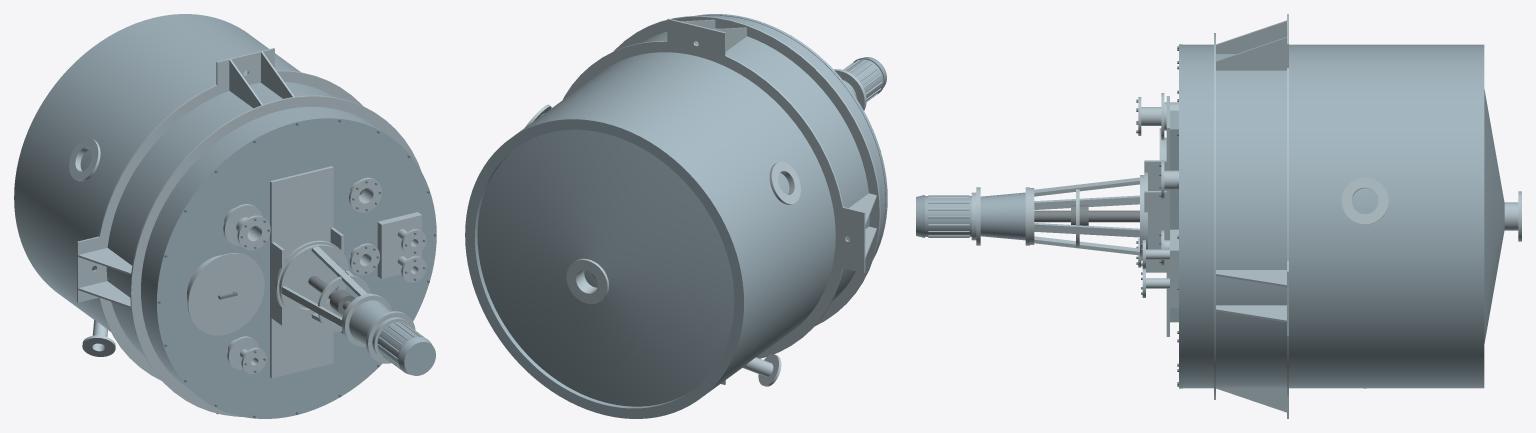
The picture shows the model from 3 angles, left to right: view 1: azimuth 30°, elevation 25°; view 2: azimuth 150°, elevation 25°; view 3: azimuth 270°, elevation 25°; orthographic projection. The views are drawn at different scales.
Parts seen in each view (by area): view 1: 保温_外包60mm, 槽盖_外盖及接口开口, 搅拌_k_安装盖, 托耳_上刚性环OD2072, 接口_h_取样盖, 托耳_下刚性环OD2072, 搅拌_机架下法兰, 搅拌_机架下环, 接口_cd_共座, 驱动_电机顶帽, 托耳_R2_承托底板, 托耳_R3_承托底板 (+22 smaller); view 2: 保温_外包60mm, 保温_锥底包络, 托耳_下刚性环OD2072, 托耳_上刚性环OD2072, 本体_钢壳OD1816, 托耳_R2_承托底板, 托耳_R3_承托底板, 接口_j_底排法兰, 槽盖_外盖及接口开口, 接口_m2_法兰, 驱动_Y112M电机, 驱动_减速机上法兰 (+1 smaller); view 3: 保温_外包60mm, 保温_锥底包络, 驱动_BLD4机壳, 搅拌_k_高座侧板, 驱动_Y112M电机, 托耳_R2_筋板-1, 槽盖_外盖及接口开口, 接口_m3_法兰, 搅拌_外露传动轴, 托耳_R2_筋板1, 搅拌_k_安装口颈, 搅拌_DJ55A开窗架腿1 (+9 smaller).
Boxes of the visible parts, x1,y1,x2,y2 form: 保温_外包60mm: (14, 14, 380, 390); 槽盖_外盖及接口开口: (155, 117, 436, 418); 搅拌_k_安装盖: (270, 166, 333, 378); 托耳_上刚性环OD2072: (130, 95, 420, 416); 接口_h_取样盖: (187, 253, 264, 335); 托耳_下刚性环OD2072: (96, 70, 362, 380); 搅拌_机架下法兰: (275, 240, 348, 319); 搅拌_机架下环: (279, 244, 348, 318); 接口_cd_共座: (377, 212, 421, 278); 驱动_电机顶帽: (398, 337, 435, 375); 托耳_R2_承托底板: (216, 48, 274, 95); 托耳_R3_承托底板: (77, 235, 109, 302); 保温_外包60mm: (465, 15, 885, 418); 保温_锥底包络: (477, 129, 734, 406); 托耳_下刚性环OD2072: (563, 41, 846, 358); 托耳_上刚性环OD2072: (614, 16, 880, 326); 本体_钢壳OD1816: (473, 128, 735, 409); 托耳_R2_承托底板: (667, 18, 725, 61); 托耳_R3_承托底板: (833, 207, 865, 272); 接口_j_底排法兰: (566, 258, 608, 303); 槽盖_外盖及接口开口: (695, 14, 887, 259); 接口_m2_法兰: (769, 161, 800, 204); 驱动_Y112M电机: (845, 59, 883, 100); 驱动_减速机上法兰: (834, 69, 866, 110); 保温_外包60mm: (1182, 44, 1484, 388); 保温_锥底包络: (1484, 89, 1504, 343); 驱动_BLD4机壳: (980, 192, 1025, 240); 搅拌_k_高座侧板: (1144, 160, 1166, 272); 驱动_Y112M电机: (925, 196, 971, 236); 托耳_R2_筋板-1: (1216, 37, 1286, 70); 槽盖_外盖及接口开口: (1179, 44, 1182, 388); 接口_m3_法兰: (1341, 177, 1388, 224); 搅拌_外露传动轴: (1034, 210, 1139, 222); 托耳_R2_筋板1: (1216, 20, 1286, 53); 搅拌_k_安装口颈: (1170, 110, 1178, 322); 搅拌_DJ55A开窗架腿1: (1034, 223, 1139, 237).
Bounding box in the file's own units: 2.33 × 2.33 × 3.42.
